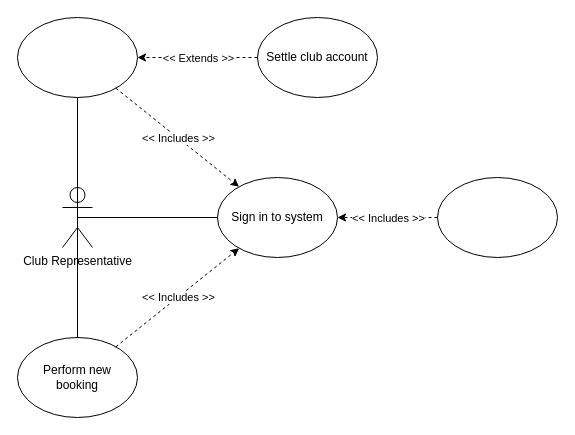
This 575x435 diagram has some shape labels left out. Here are the shapes that lost their labels. From the top down, the centre of each, then its label:
(77,57): View club details
(497,217): Validate user credentials
